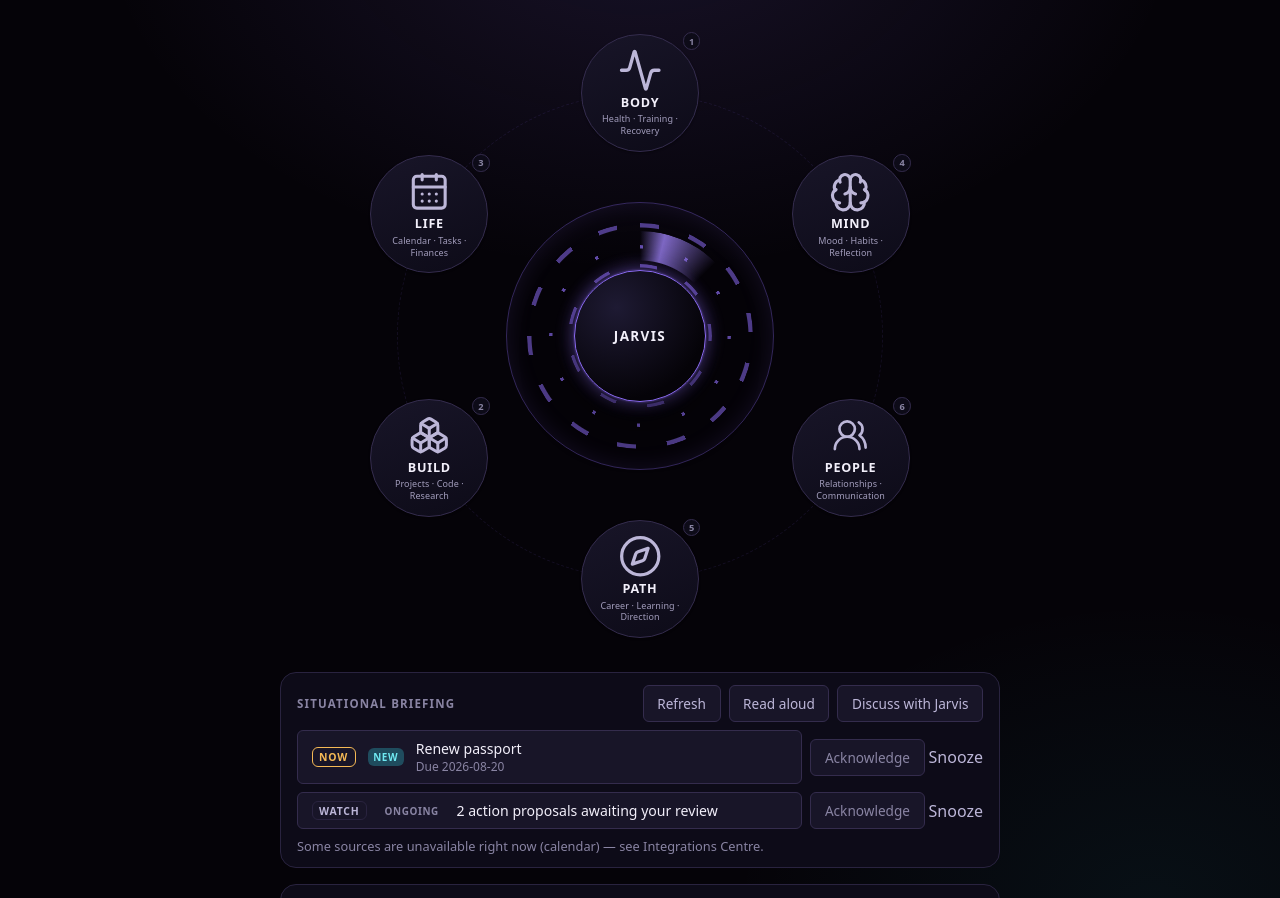
Scenario: Home — situational briefing (Phase 12A) › Discuss with Jarvis sends the briefing into a real general conversation turn, labeled as a model response
This screenshot has width=1280, height=898.
Check: the text "Renew passport" is shown, box [416,739,522,758]
Click the button "Discuss with Jarvis" at (910, 704), box [838,685,983,722]
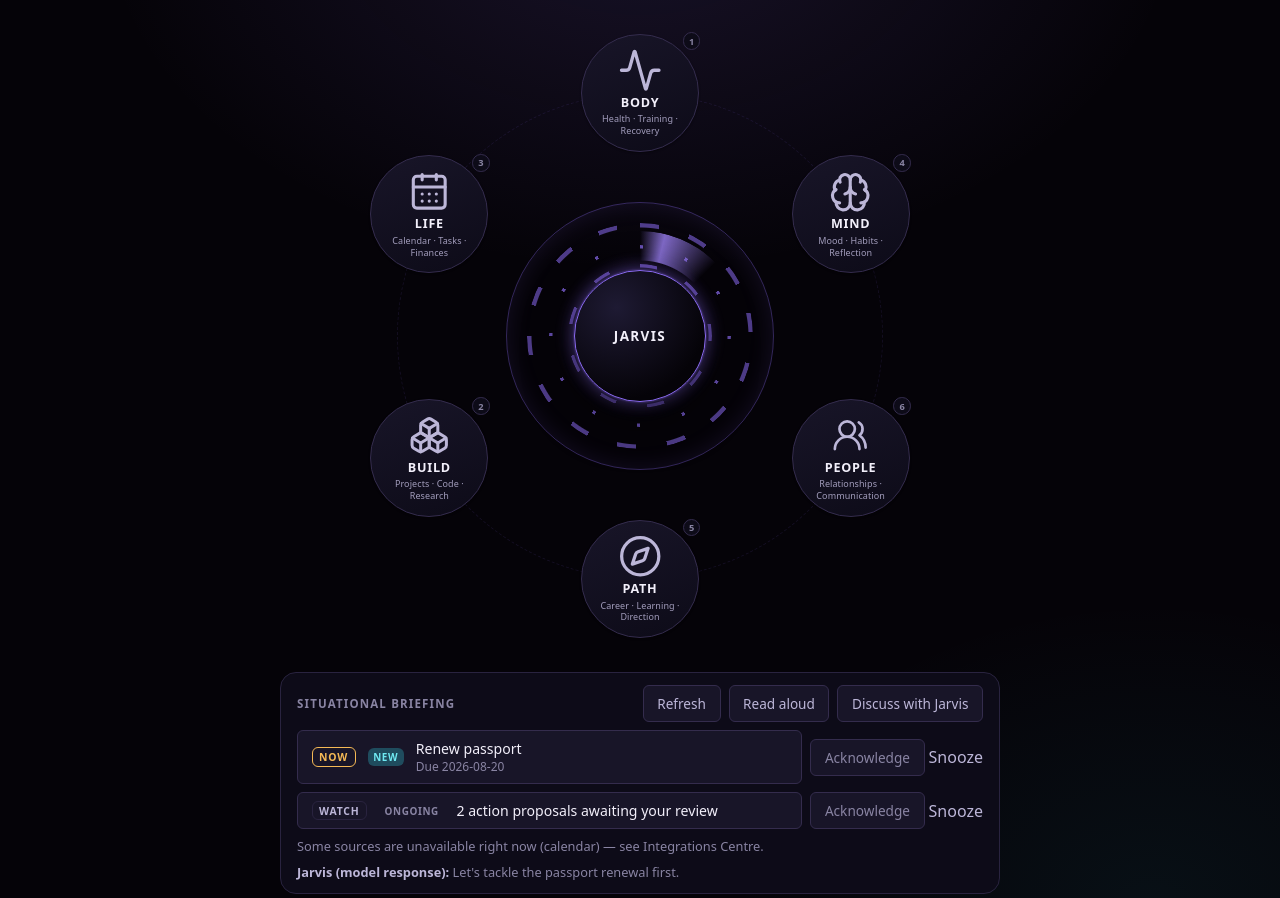
Check: the text "Let's tackle the passport renewal first" is shown, box [452,863,679,881]
Check: the text "Jarvis (model response):" is shown, box [297,863,449,881]
